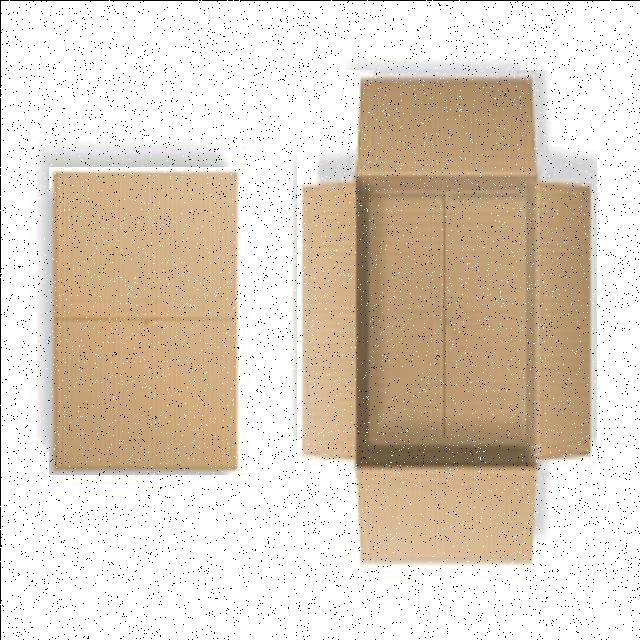defect: (296, 69, 596, 568)
normal: (48, 166, 246, 474)
